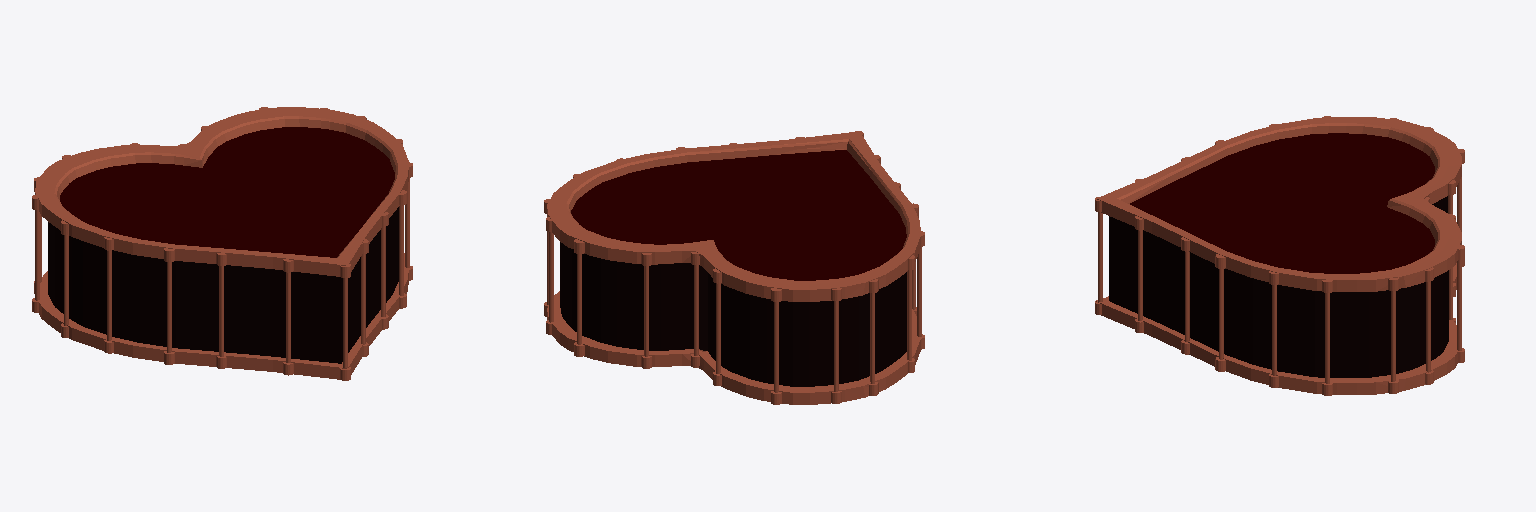
The model's file is heartdrum_textures.obj.
3 renders of one model, left to right at view 1: azimuth 30°, elevation 25°; view 2: azimuth 150°, elevation 25°; view 3: azimuth 270°, elevation 25°, orthographic.
Visible parts, largest first — view 1: default; view 2: default; view 3: default.
Boxes of the visible parts, x1=… form: default: x1=32, y1=107, x2=412, y2=380; default: x1=544, y1=131, x2=924, y2=404; default: x1=1095, y1=116, x2=1464, y2=395.
Size of the model in its own units: 58.44 by 18.83 by 54.99.